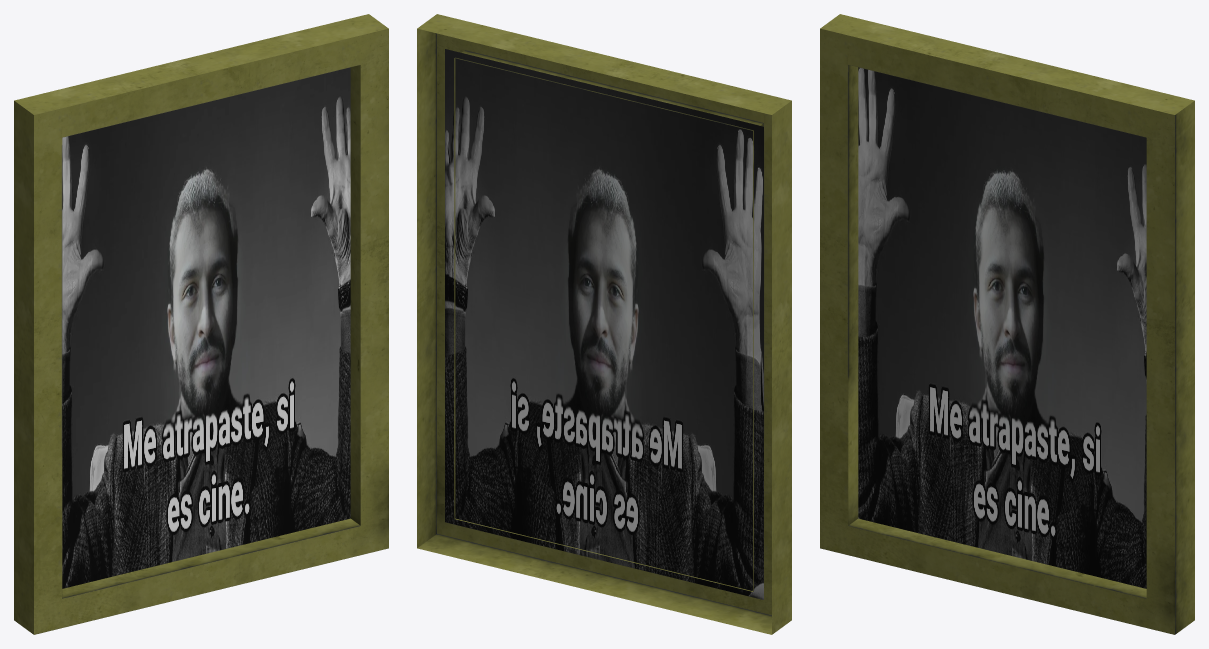
The model's file is Cuadro10.fbx.
The picture shows the model from 3 angles, left to right: view 1: azimuth 30°, elevation 25°; view 2: azimuth 150°, elevation 25°; view 3: azimuth 330°, elevation 25°; orthographic projection.
Visible parts, largest first — view 1: Plane, marco; view 2: Plane, marco; view 3: Plane, marco.
Part boxes in pixels (x1=…): Plane: x1=62, y1=67, x2=350, y2=588; marco: x1=14, y1=14, x2=388, y2=634; Plane: x1=445, y1=49, x2=763, y2=599; marco: x1=417, y1=14, x2=791, y2=634; Plane: x1=858, y1=67, x2=1146, y2=588; marco: x1=820, y1=14, x2=1194, y2=634.
Bounding box in the file's own units: 80 × 112 × 7.79.
